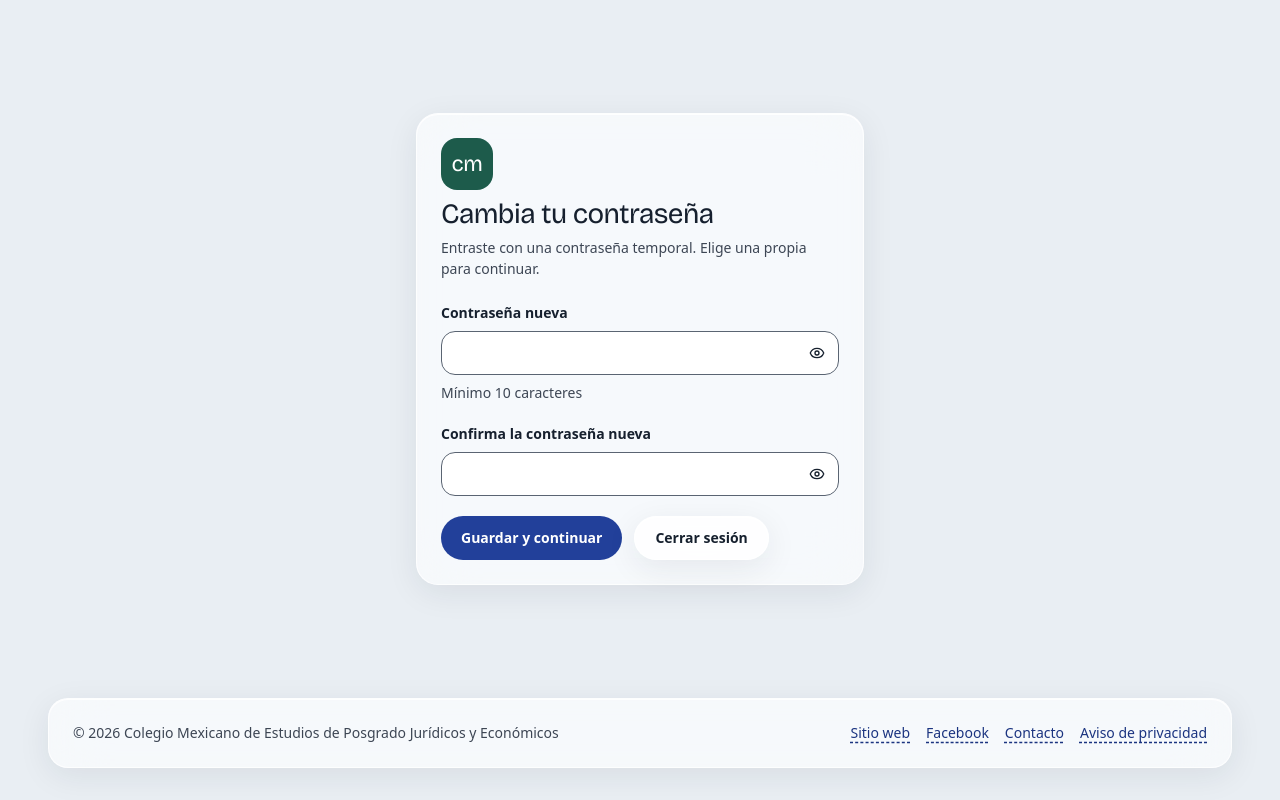
Test: ataque (AUTH-02b r2): 409 CAMBIO_NO_REQUERIDO sin bucles ni rebotes › 409 y después /me sin conexión: se queda en el formulario (no rebota a /login), con el mensaje propio y sin bucle
Check: the heading "Cambia tu contraseña" is shown, box [441, 197, 714, 231]
Type "mi-clave-propia-r2" into the password field labelled "Contraseña nueva" at (640, 353), box [441, 331, 839, 375]
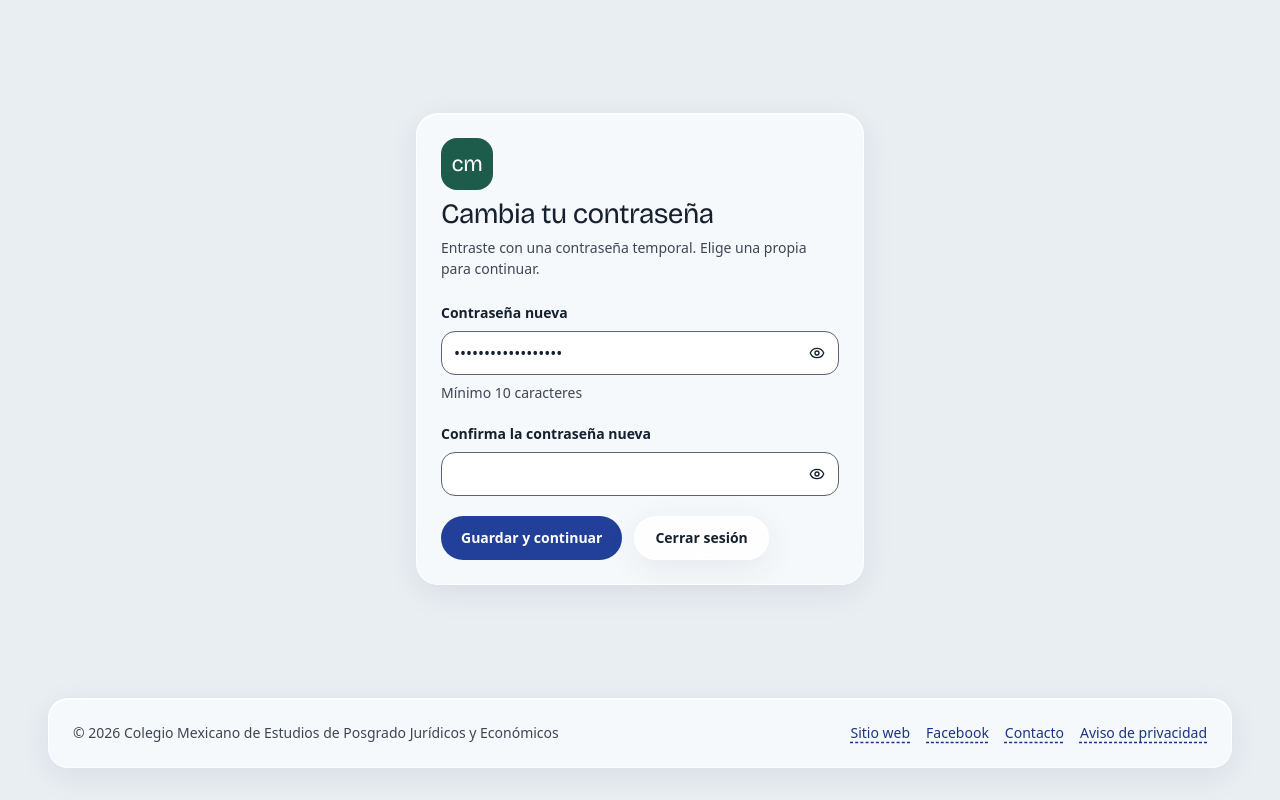
Type "mi-clave-propia-r2" into the password field labelled "Confirma la contraseña nueva" at (640, 474), box [441, 452, 839, 496]
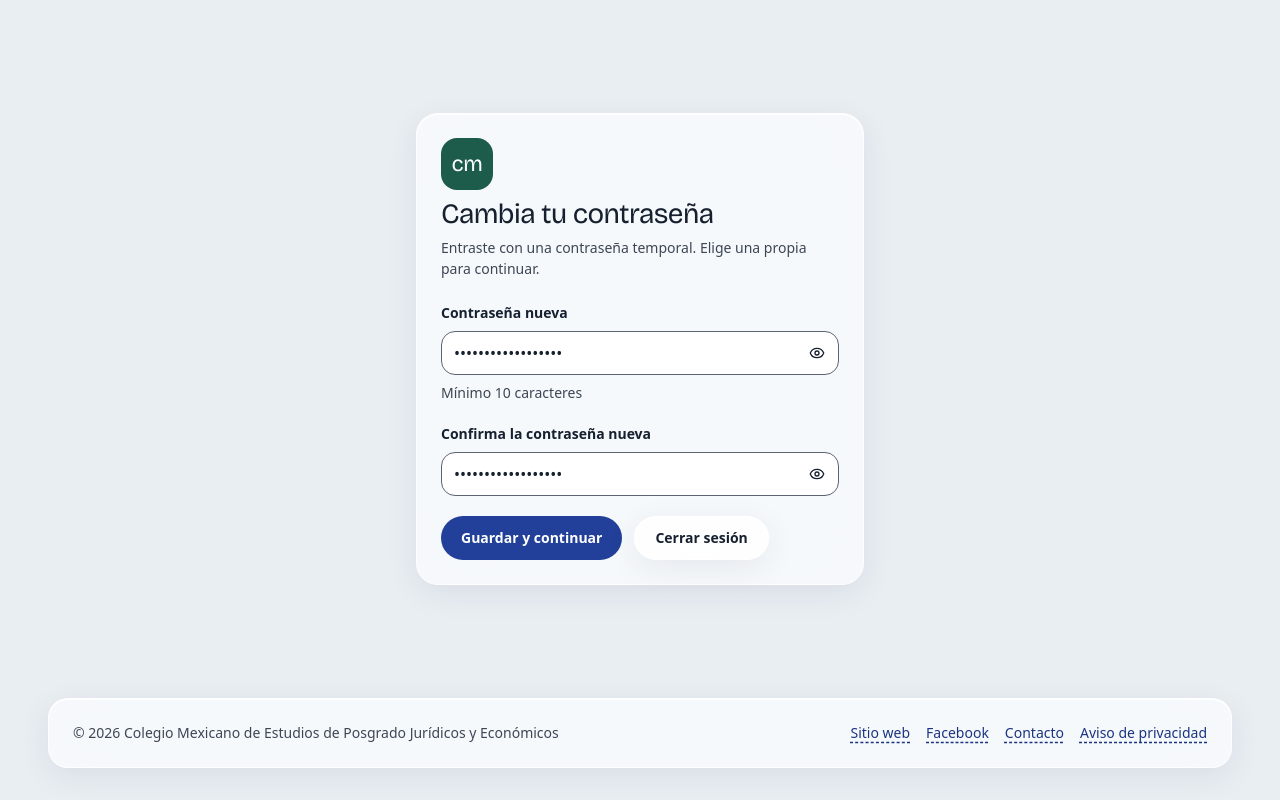
Click the button "Guardar y continuar" at (532, 538), box [441, 516, 622, 560]
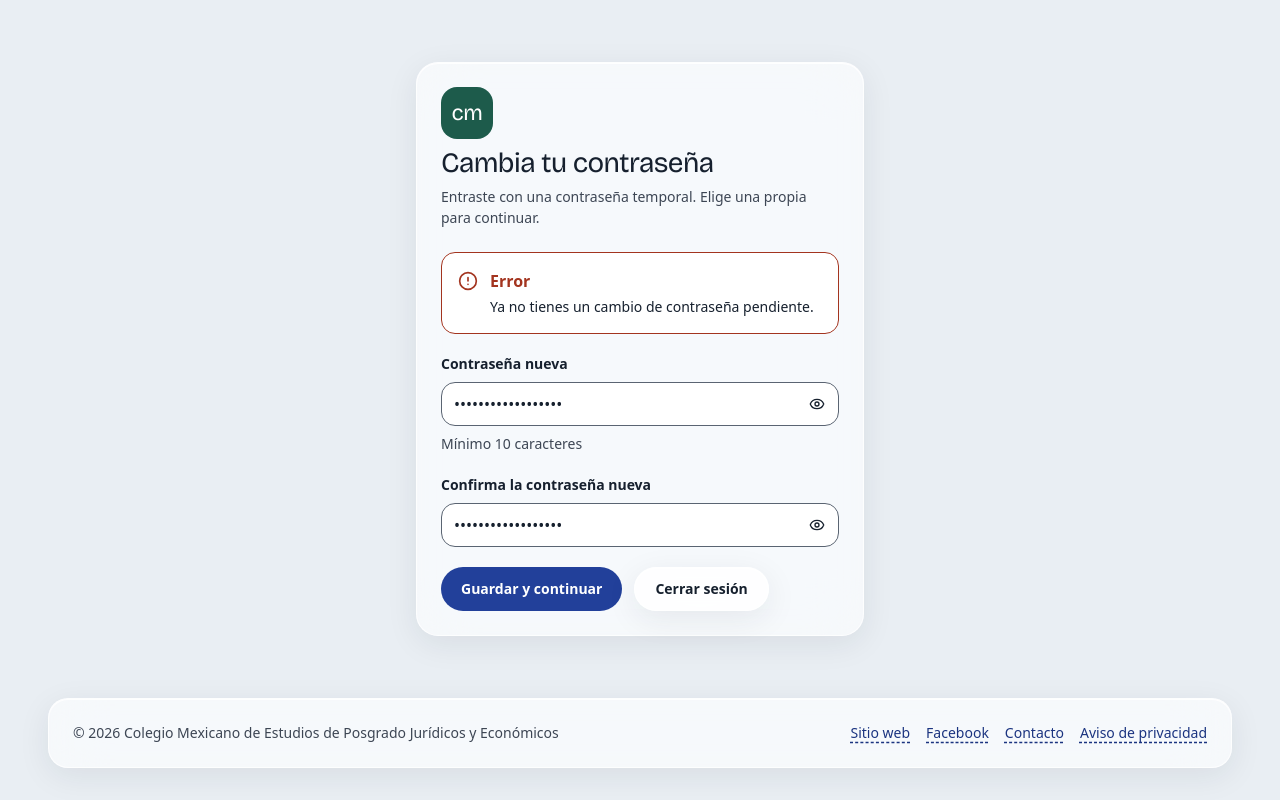
Check: the message shows "Ya no tienes un cambio de contraseña pendiente.", box [490, 297, 814, 316]
